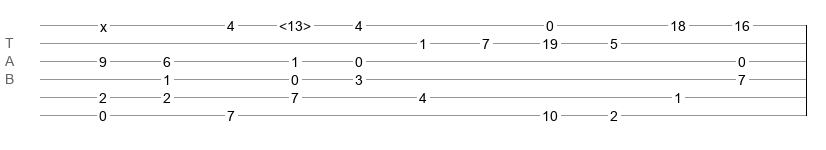0: (99, 108, 107, 118), (291, 72, 299, 82), (355, 54, 363, 64), (546, 18, 554, 28), (738, 54, 746, 64)
1: (163, 72, 171, 82), (291, 54, 299, 64), (419, 36, 427, 46), (674, 90, 682, 100)
10: (542, 108, 558, 118)
16: (734, 18, 750, 28)
18: (670, 18, 686, 28)
19: (542, 36, 558, 46)
2: (99, 90, 107, 100), (163, 90, 171, 100), (610, 108, 618, 118)
3: (355, 72, 363, 82)
4: (227, 18, 235, 28), (355, 18, 363, 28), (419, 90, 427, 100)
5: (610, 36, 618, 46)
6: (163, 54, 171, 64)
7: (227, 108, 235, 118), (291, 90, 299, 100), (482, 36, 490, 46), (738, 72, 746, 82)
9: (99, 54, 107, 64)
harmonic: (279, 18, 311, 28)
x: (100, 19, 107, 27)
